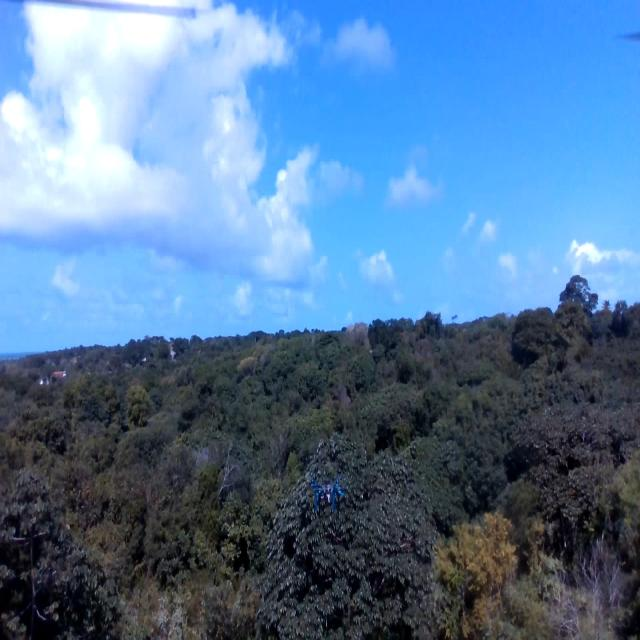-uav-: (302, 466, 350, 525)
